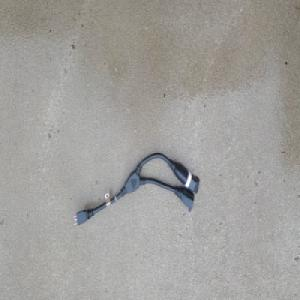Wire: (71, 152, 200, 229)
